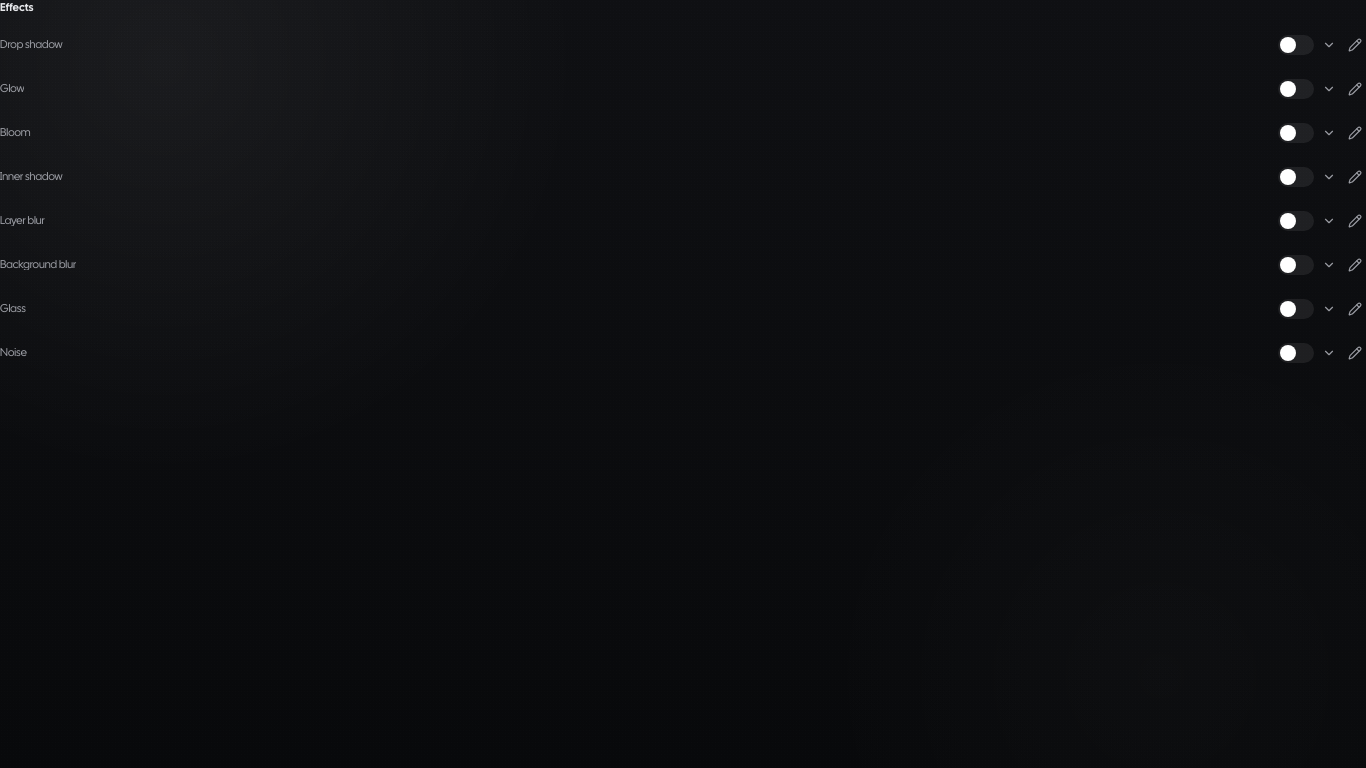
it: Effects — background blur (2.1) e paridade modal ↔ sidebar › modal abre no valor da sidebar e o slider escreve de volta ligado
Expected: the switch labelled "Background blur" is not checked, [1278,254,1314,274]
Click the button named "Edit Background blur" at [1355, 264], box [1344,254,1365,276]
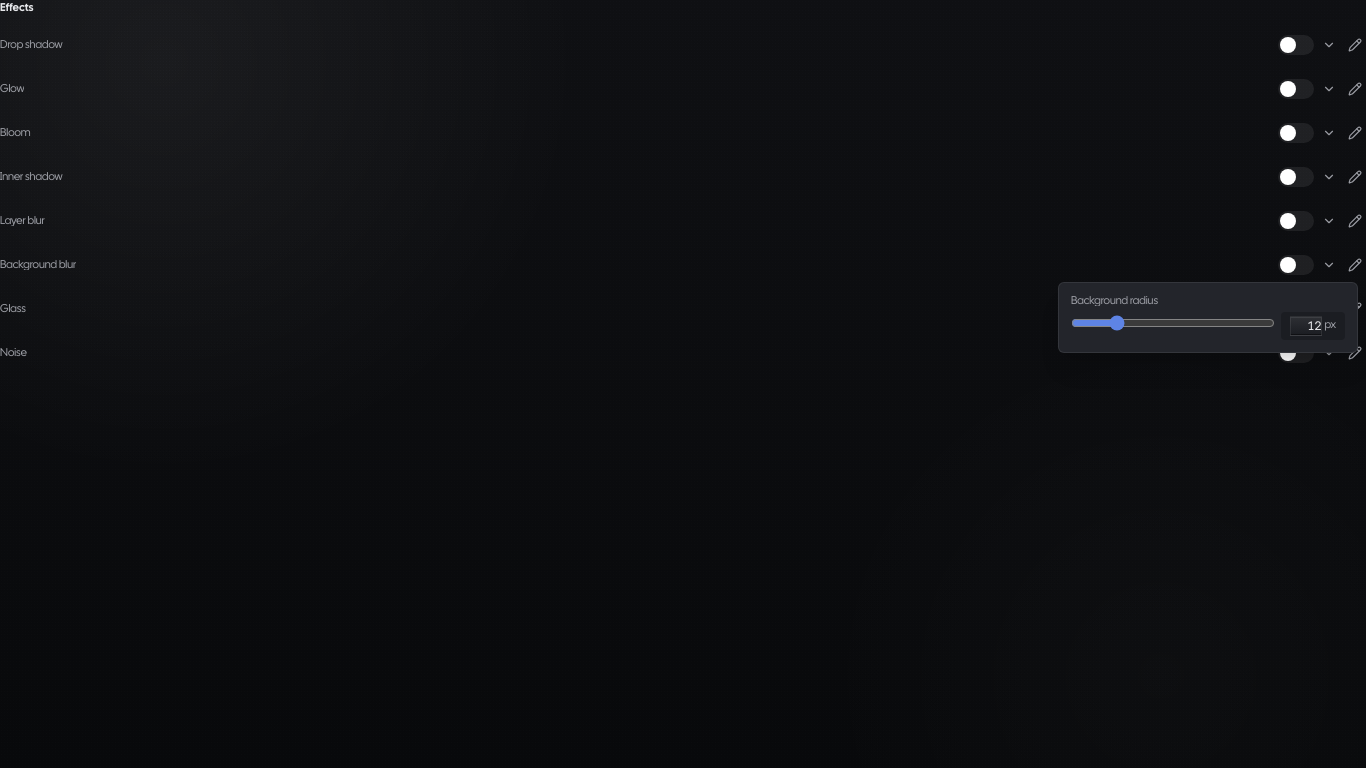
Expected: the slider named "Background radius" holds "12"
Set the slider named "Background radius" to "20" at [1142, 322], box [1071,314,1275,330]
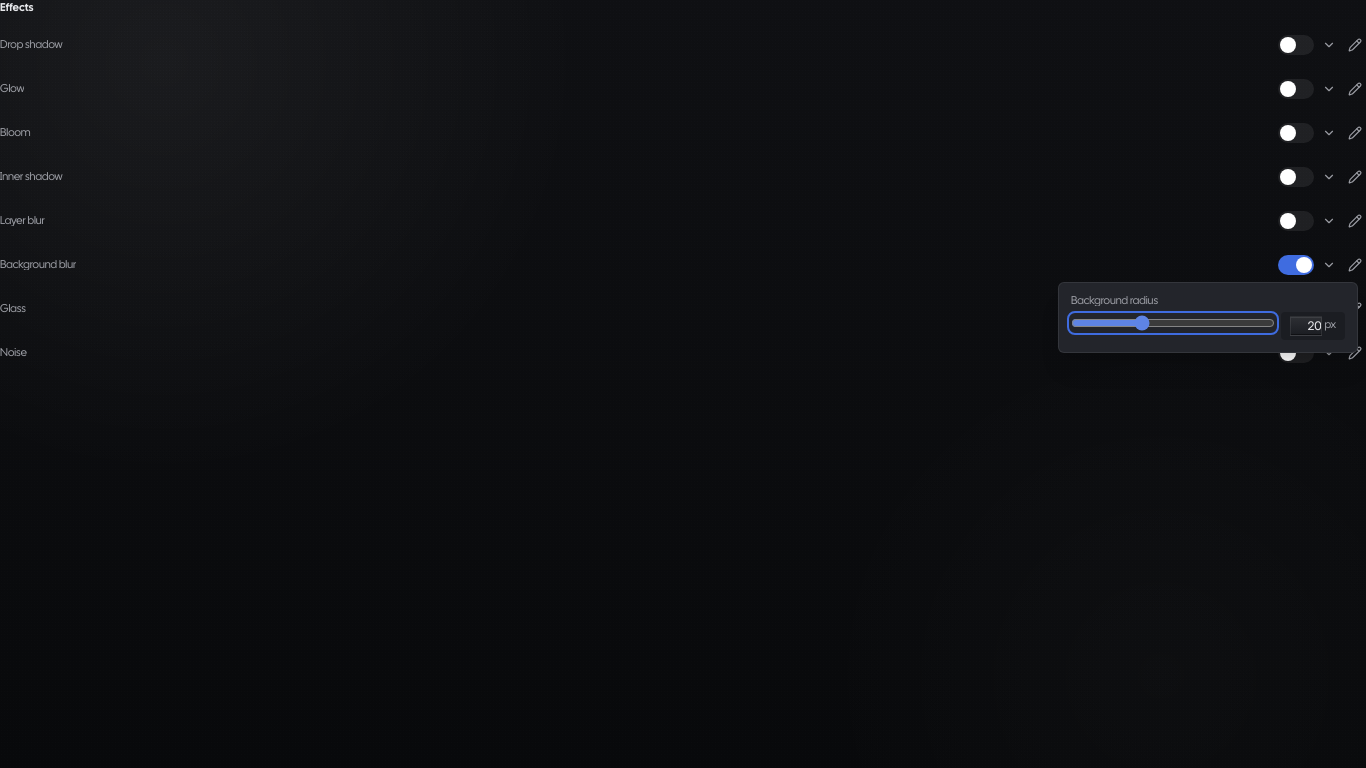
Expected: the switch labelled "Background blur" is checked, [1278,254,1314,274]
